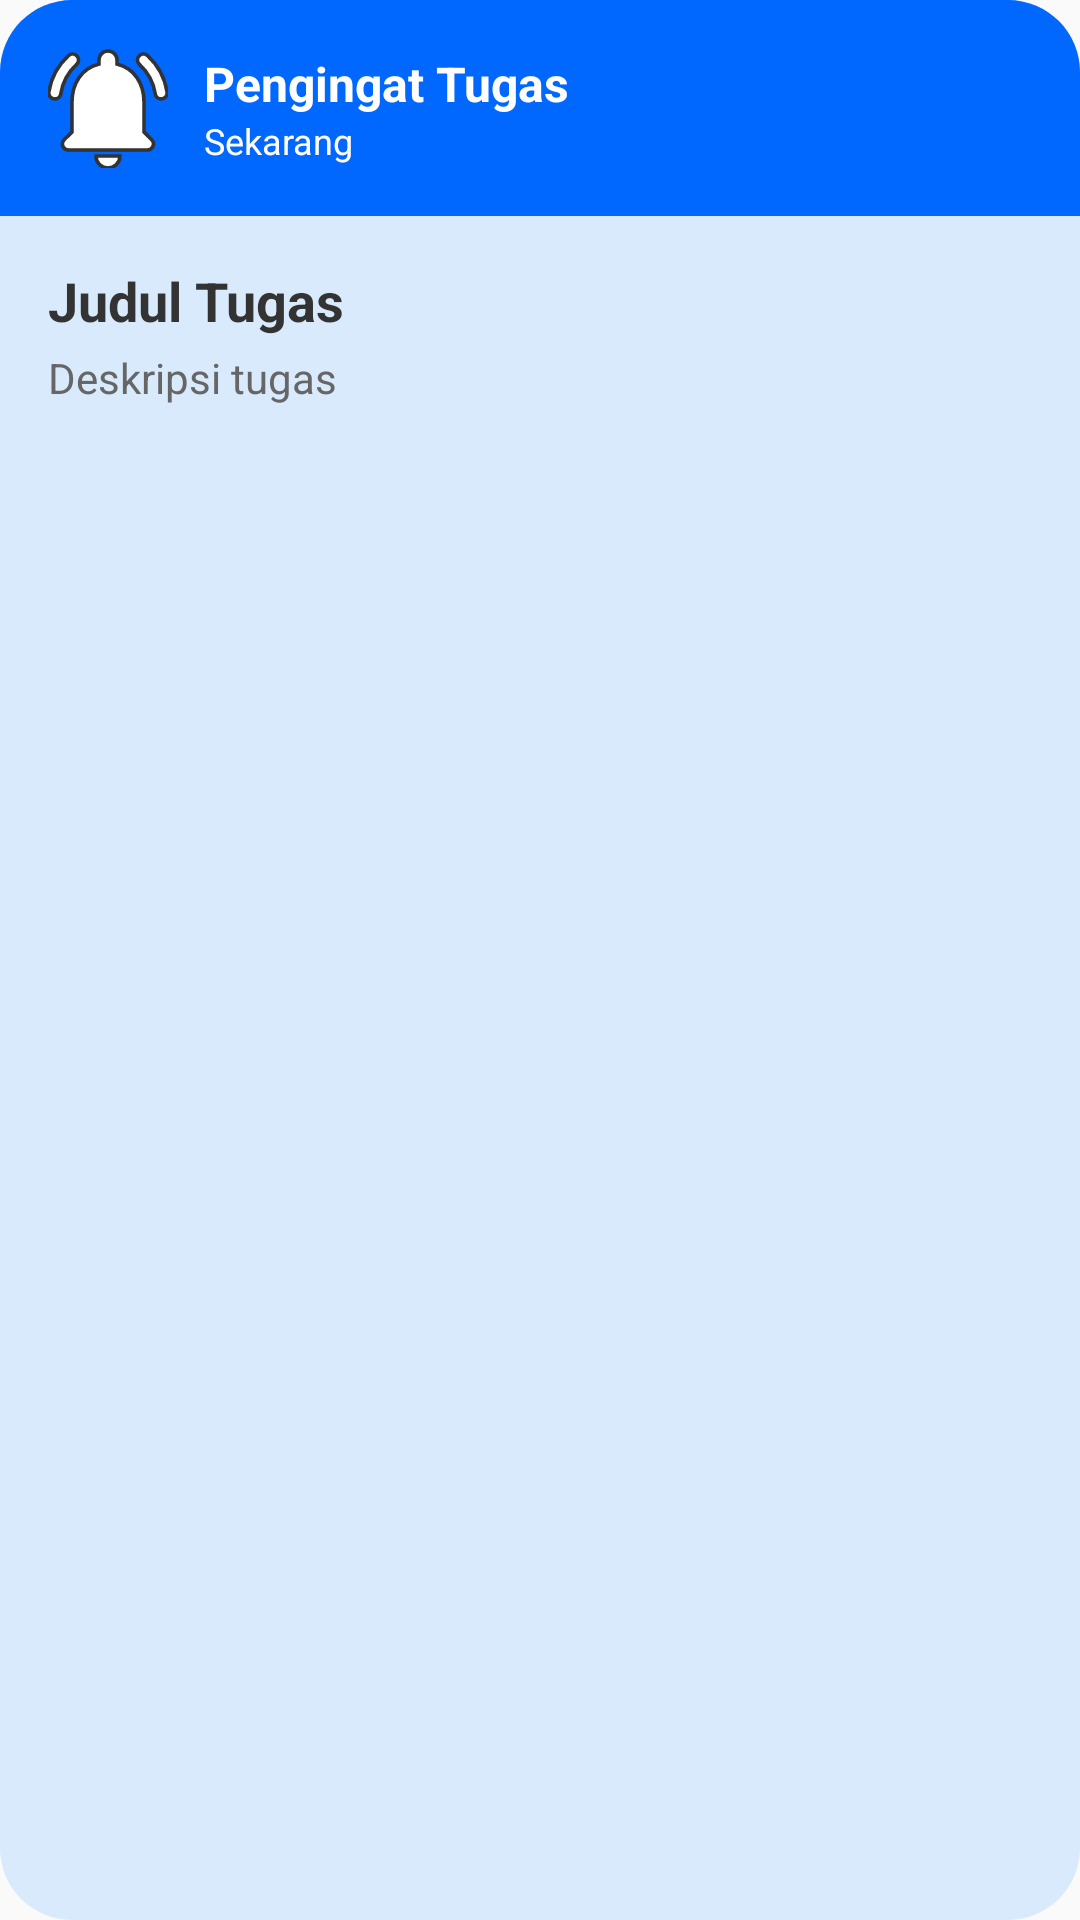

Icon bounding boxes for this 1080×1920 phone screenshot, format (x1, y1, x2, y2):
Ikon notifikasi: (48, 49, 168, 168)
